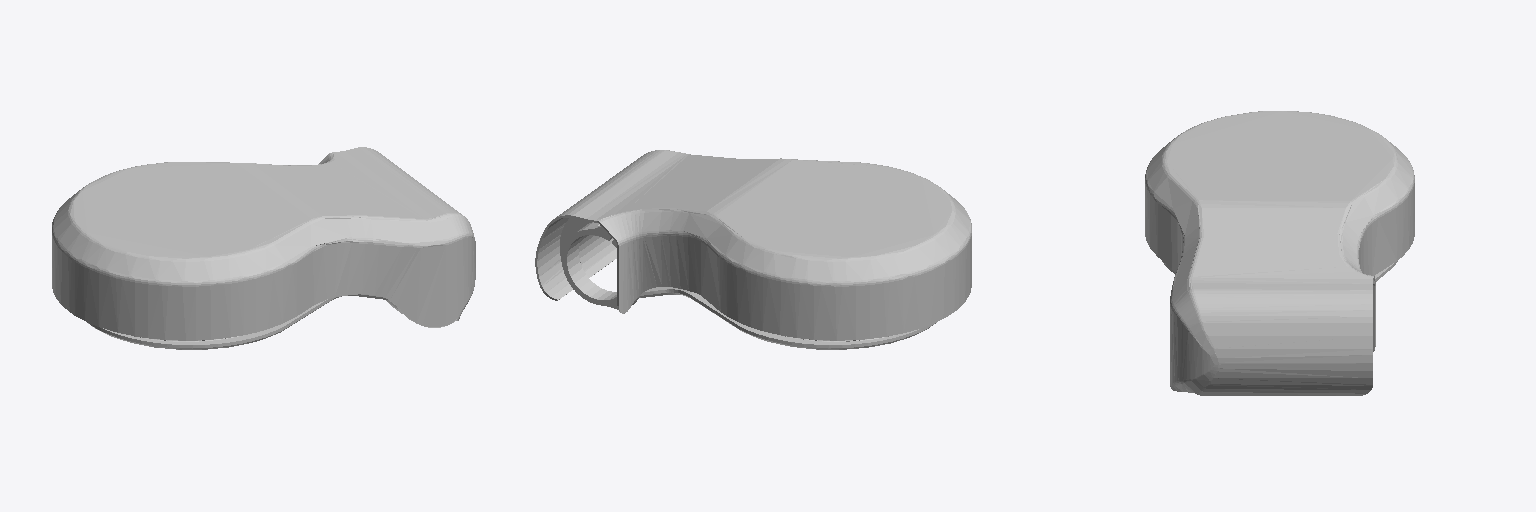
The model's file is anymal_shank_l.obj.
3 renders of one model, left to right at view 1: azimuth 30°, elevation 25°; view 2: azimuth 150°, elevation 25°; view 3: azimuth 270°, elevation 25°, orthographic.
Size of the model in its own units: 183 by 59.27 by 115.